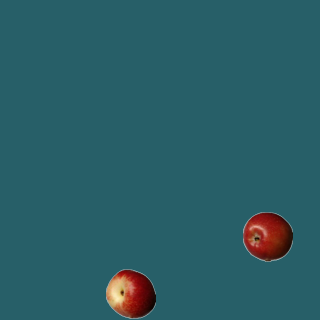Apple Braeburn: (242, 211, 292, 261)
Nectarine: (105, 268, 155, 318)
